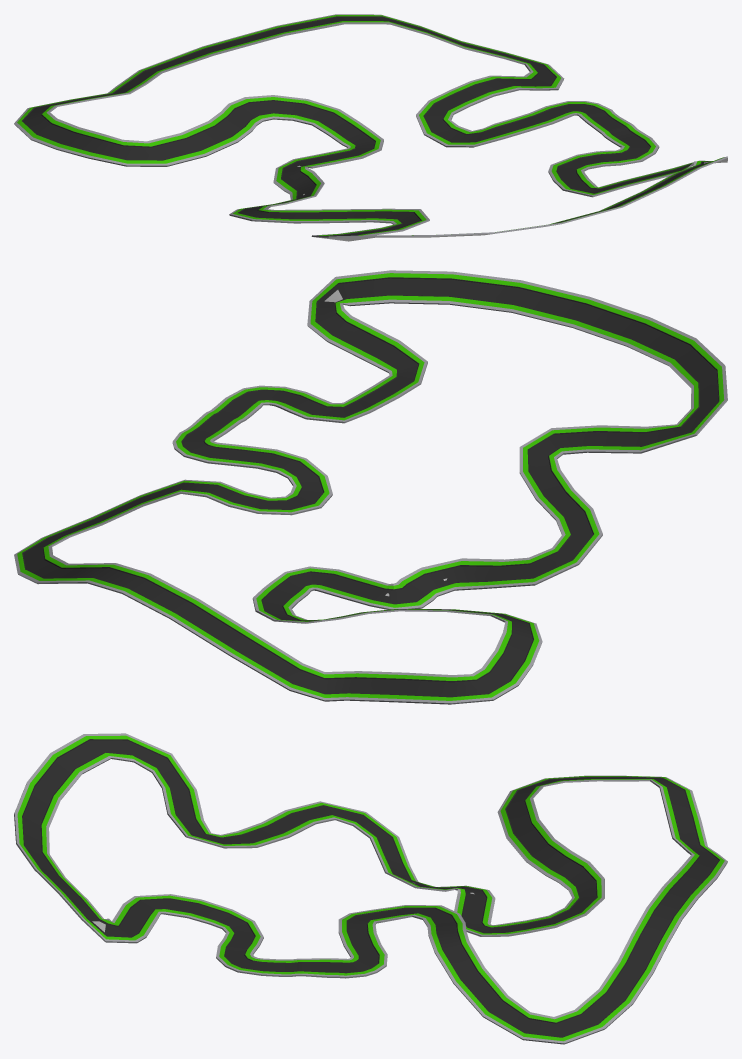
The model's file is HillValleyTrackIncomplete.fbx.
The picture shows the model from 3 angles, top to bottom: view 1: azimuth 30°, elevation 25°; view 2: azimuth 150°, elevation 25°; view 3: azimuth 270°, elevation 25°; orthographic projection. The views are drawn at different scales.
Parts seen in each view (by area): view 1: StraightShort:pCube1; view 2: StraightShort:pCube1; view 3: StraightShort:pCube1.
Boxes of the visible parts, <box> form: StraightShort:pCube1: <box>14,14,727,241</box>; StraightShort:pCube1: <box>14,270,727,704</box>; StraightShort:pCube1: <box>14,733,727,1044</box>.
Bounding box in the file's own units: 530 × 113 × 654.
